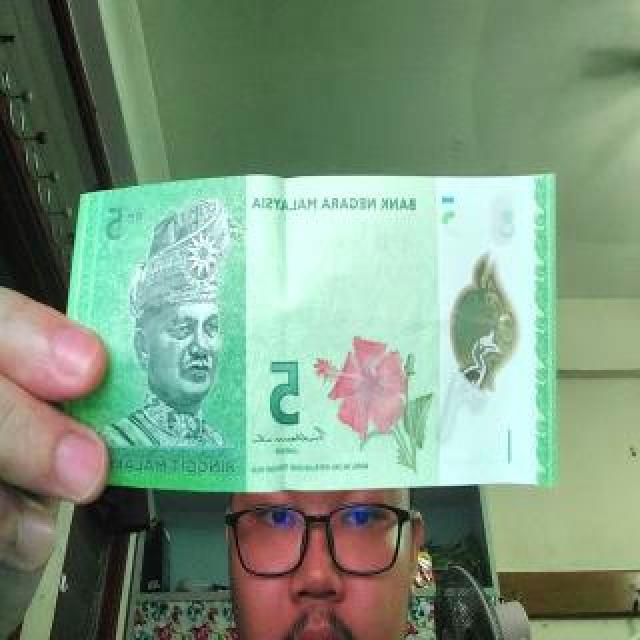5 Ringgit: (36, 178, 561, 497)
